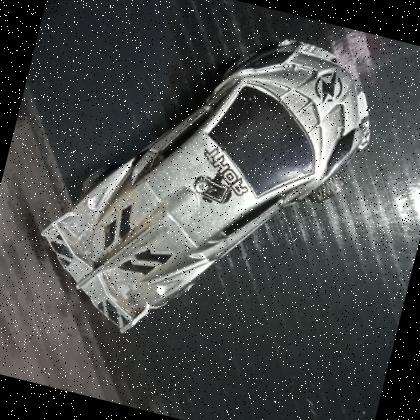Car: (12, 0, 396, 387)
